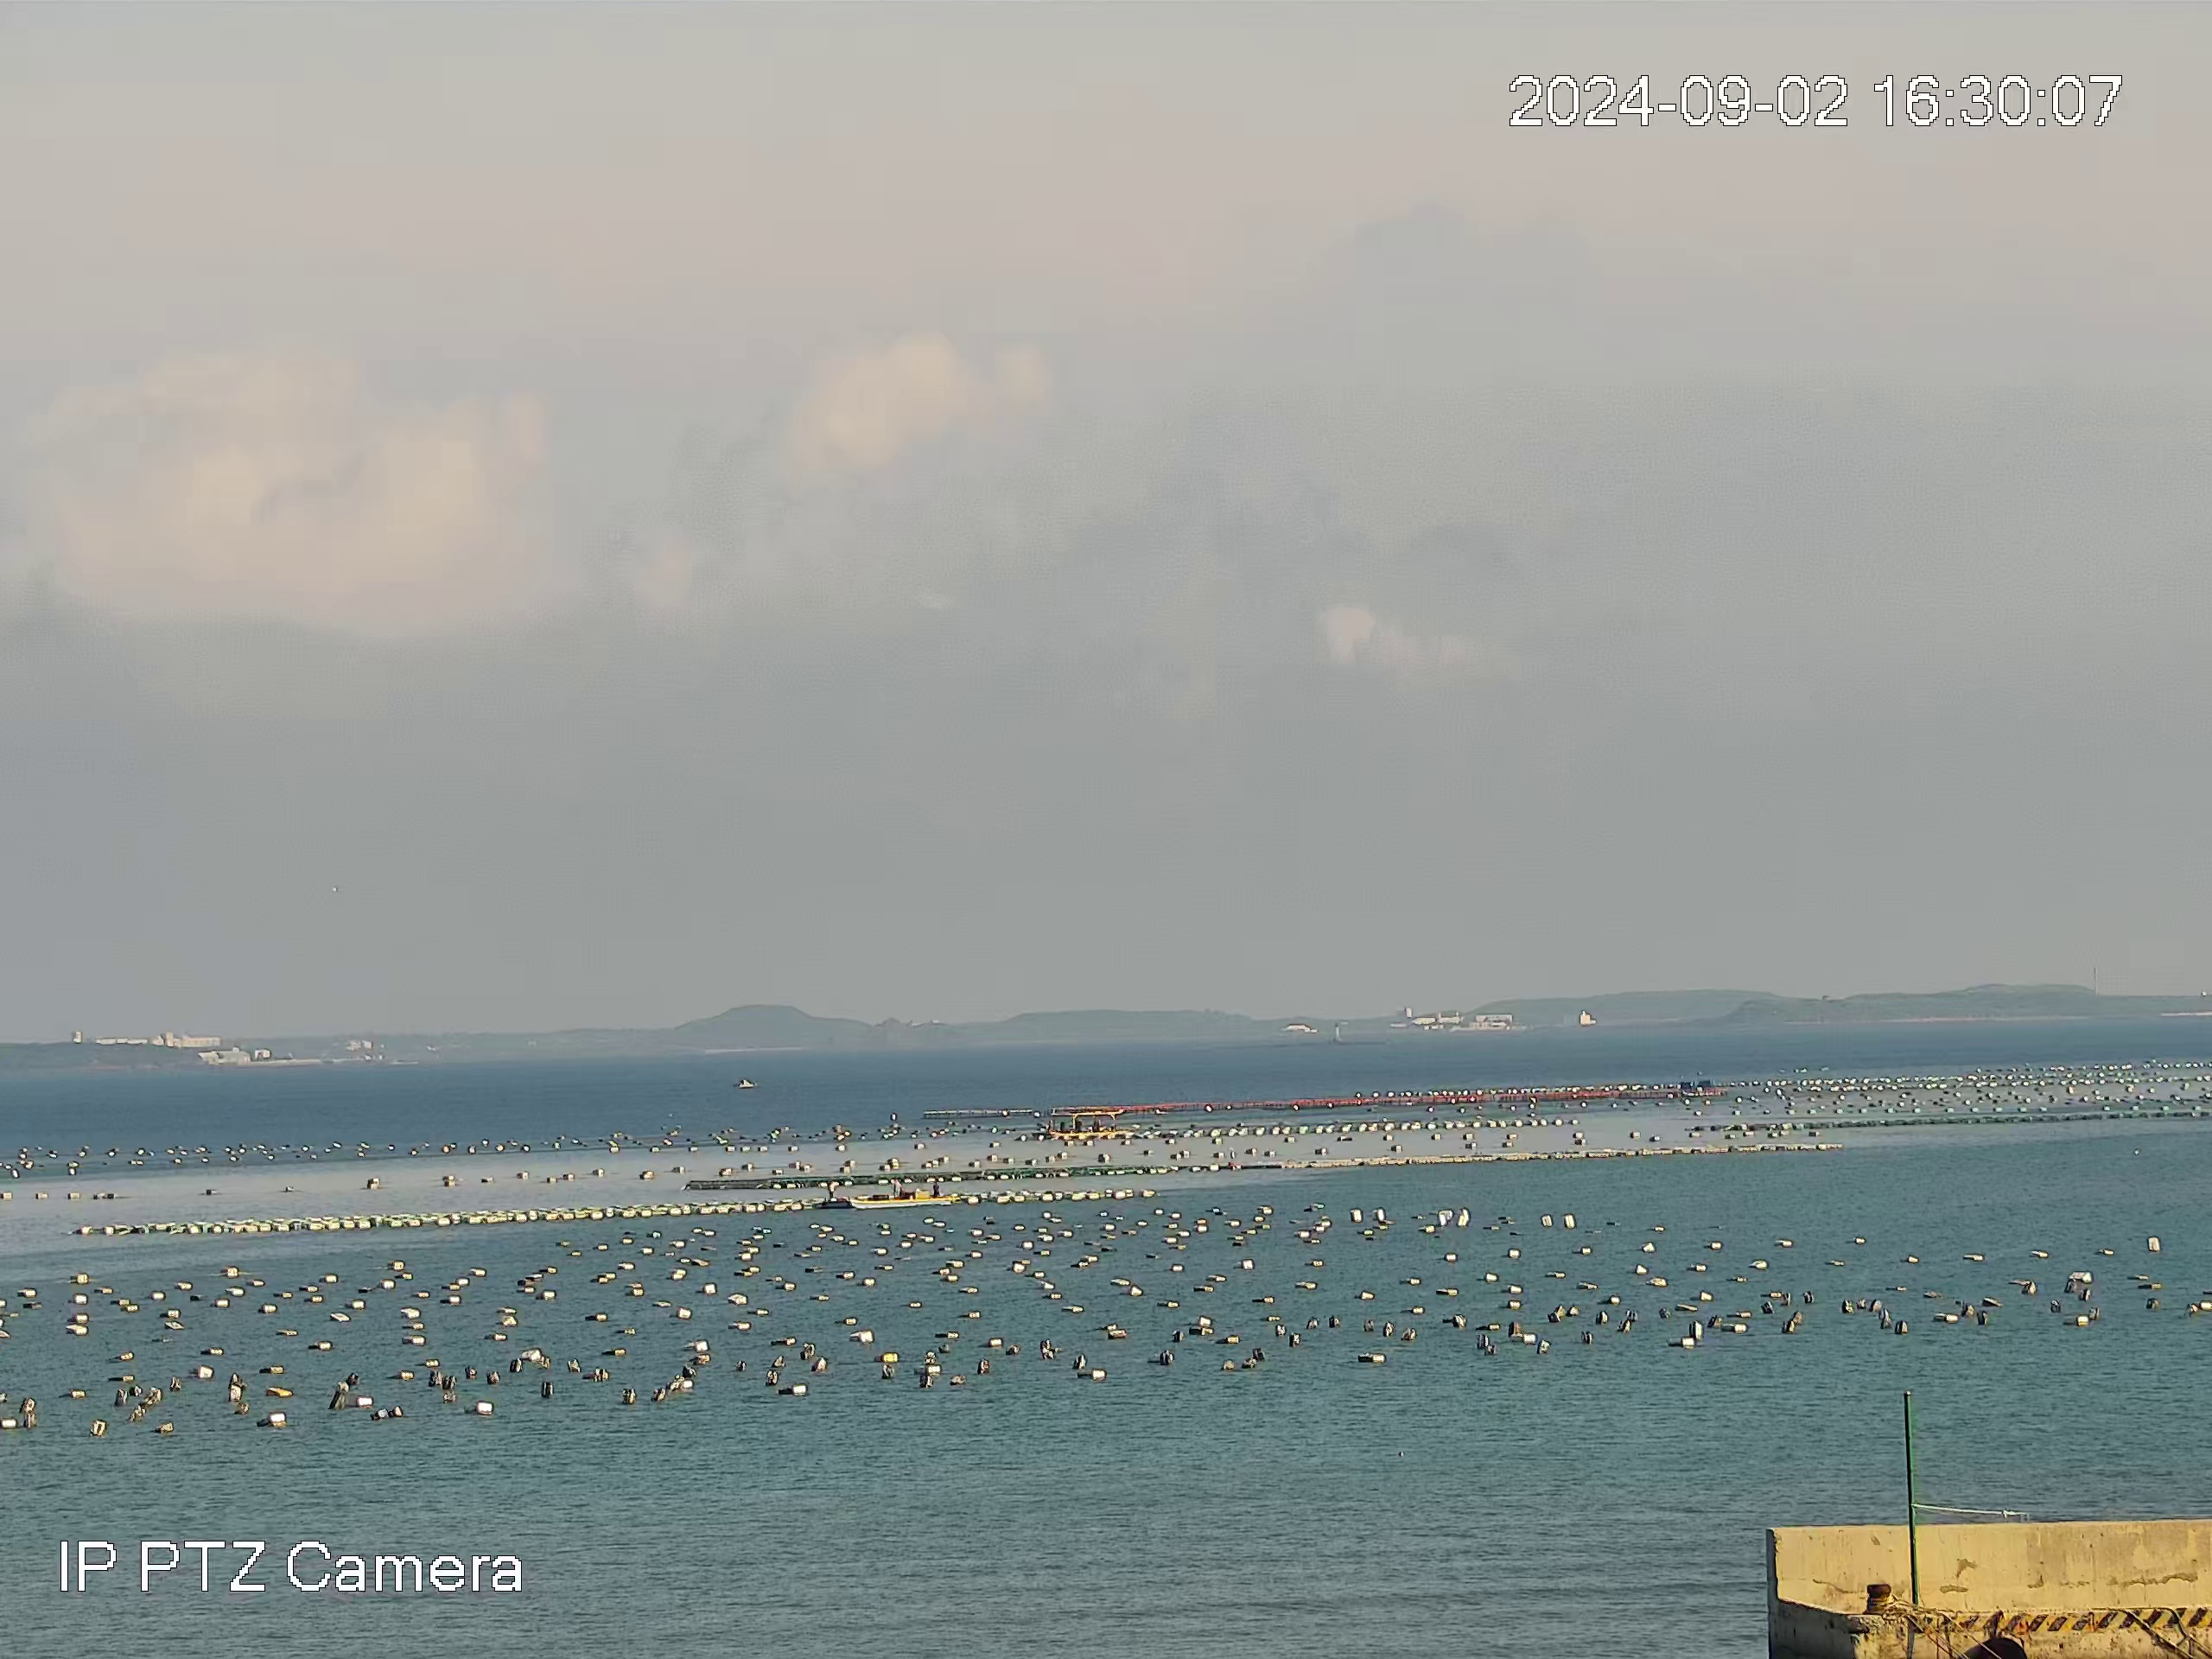boat: (846, 1176, 954, 1209), (1047, 1108, 1129, 1140)
